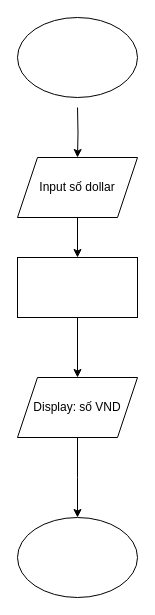
This 155x615 diagram has some shape labels left out. The shapes that lost their labels are listed below. From the top down, each one's centre as x and y in pixels, then its label:
(77,287): số dollar*23000VND
(77,557): END
